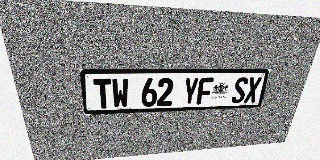2: (157, 78, 174, 106)
6: (141, 78, 158, 107)
F: (196, 77, 214, 105)
S: (231, 77, 249, 103)
T: (93, 78, 112, 109)
W: (111, 78, 129, 108)
X: (244, 77, 262, 103)
Y: (182, 78, 199, 105)
